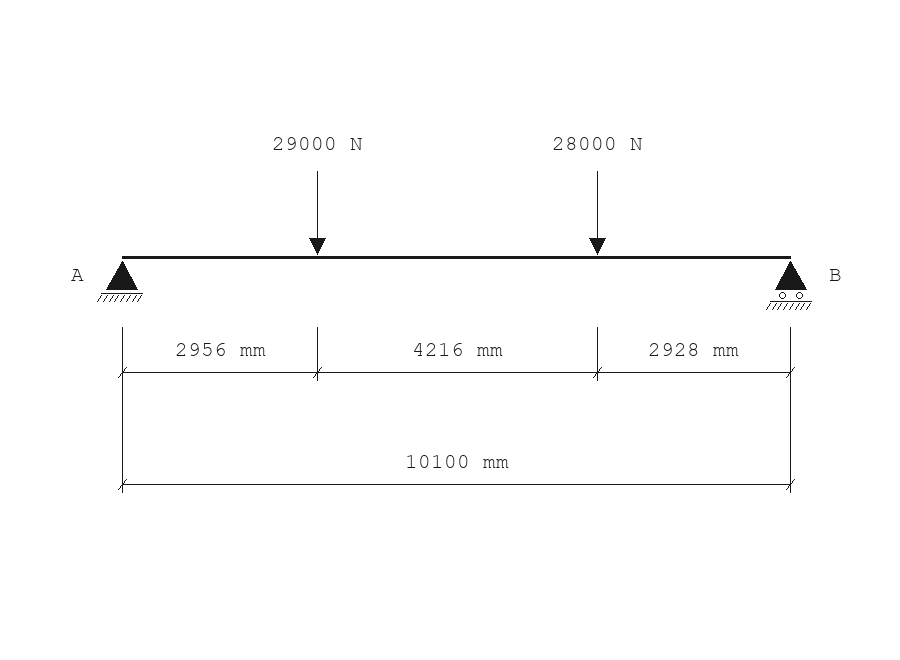pin_support: (97, 261, 143, 302)
point_load: (309, 171, 326, 255), (589, 171, 606, 255)
roller_support: (766, 261, 812, 310)
